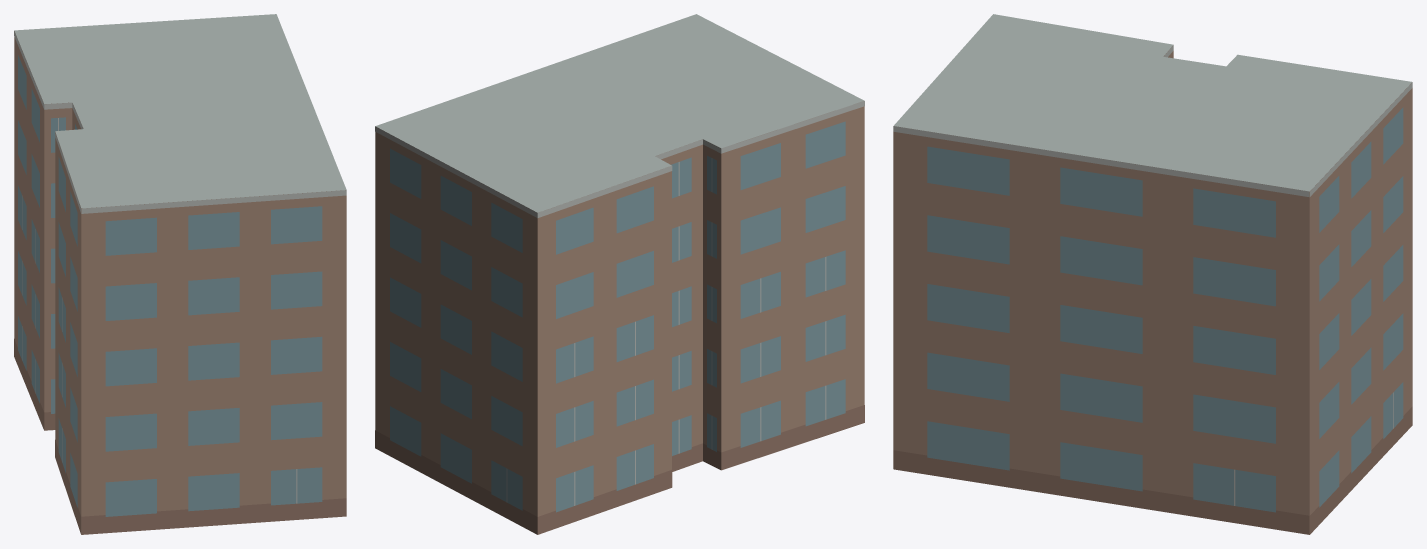
The model's file is survey-upis-32711056.glb.
3 renders of one model, left to right at view 1: azimuth 30°, elevation 25°; view 2: azimuth 150°, elevation 25°; view 3: azimuth 270°, elevation 25°, orthographic. The views are drawn at different scales.
Parts seen in each view (by area): view 1: survey-upis-32711056.tmp; view 2: survey-upis-32711056.tmp; view 3: survey-upis-32711056.tmp.
Boxes of the visible parts, x1=… form: survey-upis-32711056.tmp: x1=14, y1=14, x2=346, y2=534; survey-upis-32711056.tmp: x1=375, y1=14, x2=864, y2=534; survey-upis-32711056.tmp: x1=893, y1=14, x2=1412, y2=534.
Bounding box in the file's own units: 16.08 × 14.5 × 19.88.
